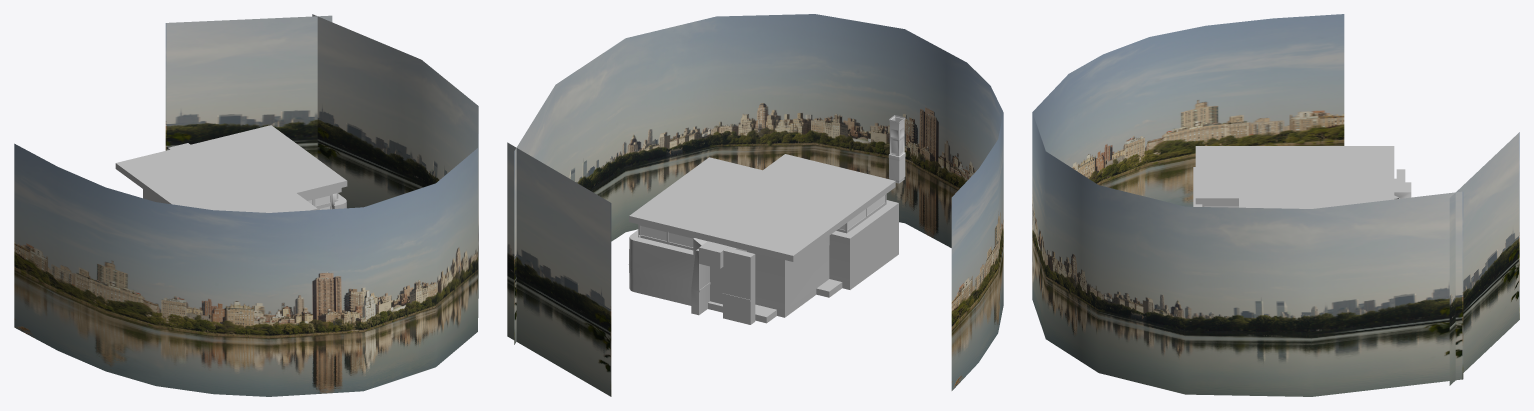
Rendered from jakobraum.fbx.
3 views of the same model, side by side, from view 1: azimuth 30°, elevation 25°; view 2: azimuth 150°, elevation 25°; view 3: azimuth 270°, elevation 25° (orthographic). The views are drawn at different scales.
Visible parts, largest first — view 1: Plane, ceiling; view 2: Plane, ceiling, Plane.010, Cube.001, Door.003, Cube.010, Door.001, Floor1; view 3: Plane, ceiling, Plane.010.
Part boxes in pixels (x1=…): Plane: x1=14, y1=14, x2=478, y2=396; ceiling: x1=115, y1=125, x2=347, y2=212; Plane: x1=507, y1=14, x2=1003, y2=396; ceiling: x1=629, y1=154, x2=895, y2=261; Plane.010: x1=628, y1=200, x2=898, y2=324; Cube.001: x1=888, y1=115, x2=905, y2=183; Door.003: x1=640, y1=195, x2=884, y2=247; Cube.010: x1=638, y1=194, x2=886, y2=250; Door.001: x1=710, y1=266, x2=722, y2=304; Floor1: x1=708, y1=301, x2=776, y2=323; Plane: x1=1032, y1=14, x2=1519, y2=396; ceiling: x1=1195, y1=146, x2=1394, y2=208; Plane.010: x1=1193, y1=167, x2=1411, y2=206.
Size of the model in its own units: 2103 by 945 by 2219.
